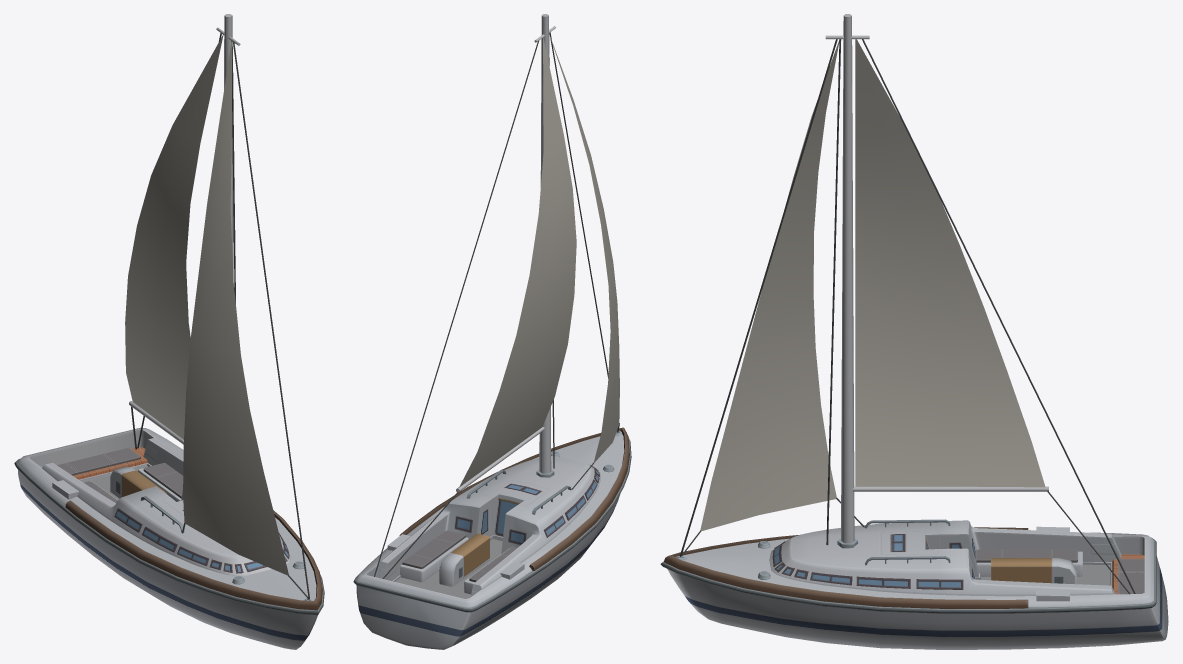
Rendered from sea_ship.glb.
3 renders of one model, left to right at view 1: azimuth 30°, elevation 25°; view 2: azimuth 150°, elevation 25°; view 3: azimuth 270°, elevation 25°, orthographic. The views are drawn at different scales.
Visible parts, largest first — view 1: Object_2; view 2: Object_2; view 3: Object_2.
Part boxes in pixels (x1,y1,x2,y2): Object_2: (14,14,324,649); Object_2: (353,14,631,649); Object_2: (660,14,1168,649).
Bounding box in the file's own units: 5.19 × 19.06 × 14.21.
Materials: 1 (1 with a texture image).
